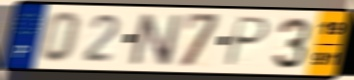0: (40, 10, 82, 65)
2: (80, 12, 125, 64)
3: (272, 15, 313, 70)
7: (180, 11, 224, 70)
N: (128, 12, 184, 68)
P: (222, 15, 272, 68)
